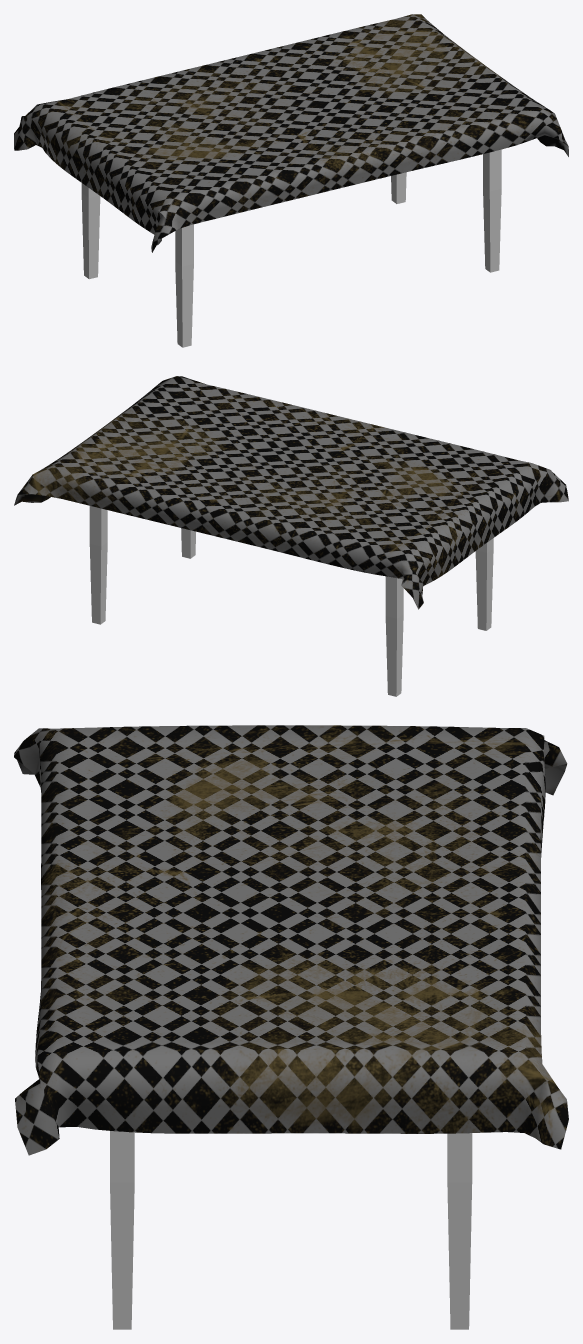
The model's file is Table.fbx.
3 renders of one model, top to bottom at view 1: azimuth 30°, elevation 25°; view 2: azimuth 150°, elevation 25°; view 3: azimuth 270°, elevation 25°, orthographic. The views are drawn at different scales.
Visible parts, largest first — view 1: Table Cloth, Table; view 2: Table Cloth, Table; view 3: Table Cloth, Table.
Boxes of the visible parts, left/top/right/bottom form: Table Cloth: left=14, top=14, right=568, bottom=252; Table: left=81, top=149, right=501, bottom=347; Table Cloth: left=14, top=376, right=568, bottom=609; Table: left=89, top=506, right=493, bottom=696; Table Cloth: left=14, top=725, right=568, bottom=1155; Table: left=110, top=1131, right=472, bottom=1329.
Bounding box in the file's own units: 210 × 78.83 × 131.
